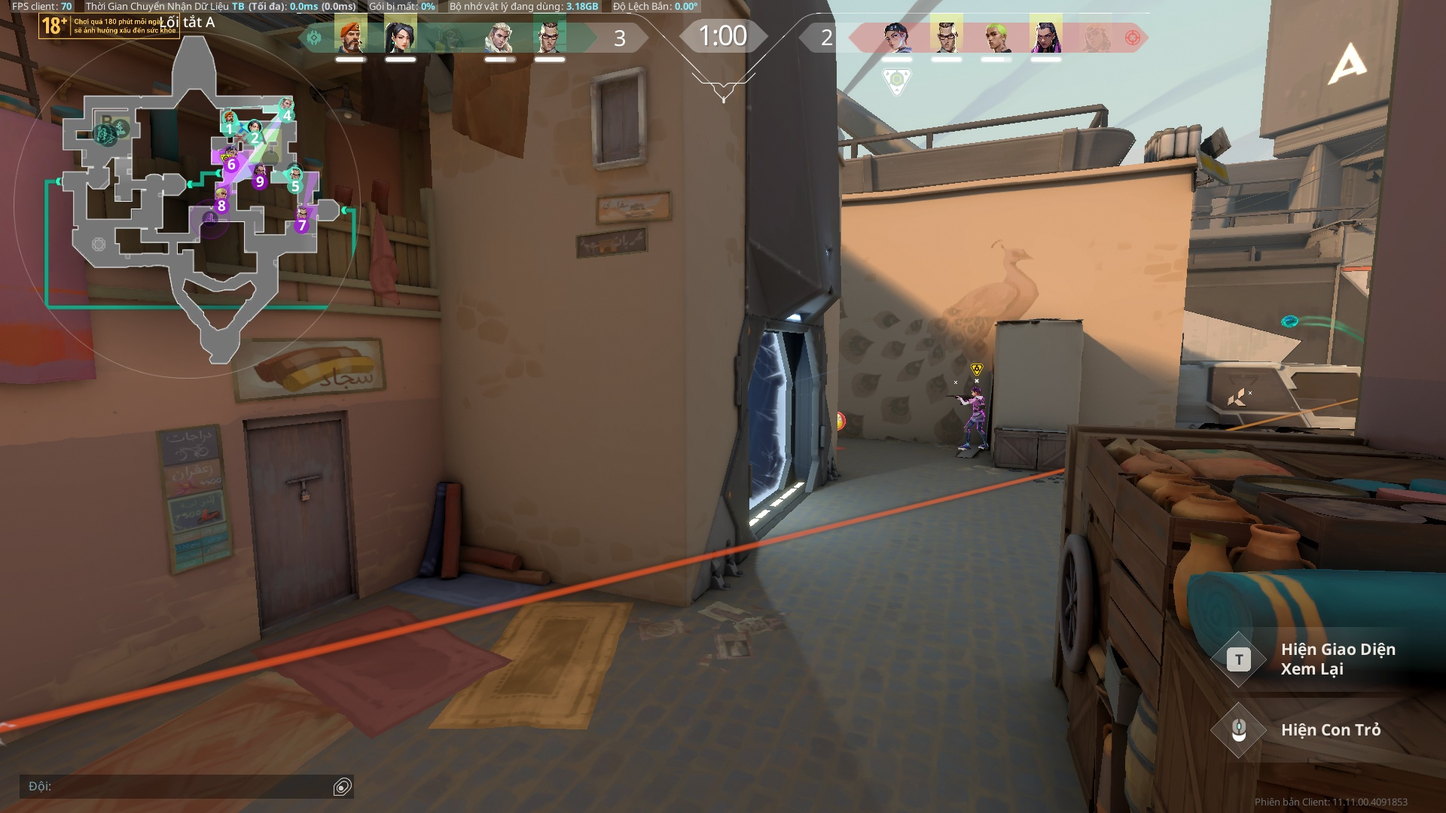body: (970, 396, 984, 415)
head: (970, 385, 981, 397)
